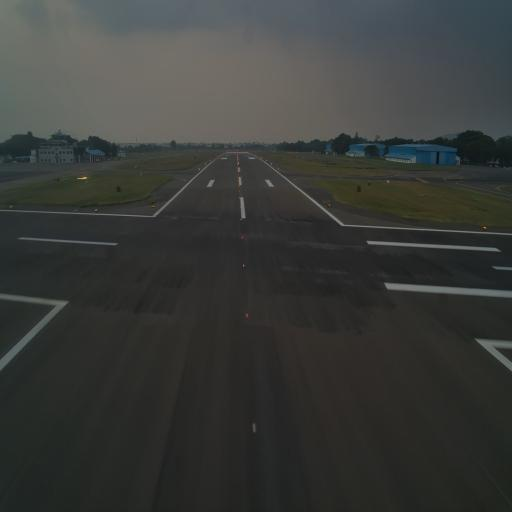on: (250, 420, 258, 438), (8, 203, 13, 211), (246, 312, 250, 320), (94, 207, 98, 214), (483, 225, 487, 232), (152, 203, 156, 209), (240, 234, 244, 240), (242, 263, 245, 268), (328, 203, 331, 207), (240, 217, 242, 221)
